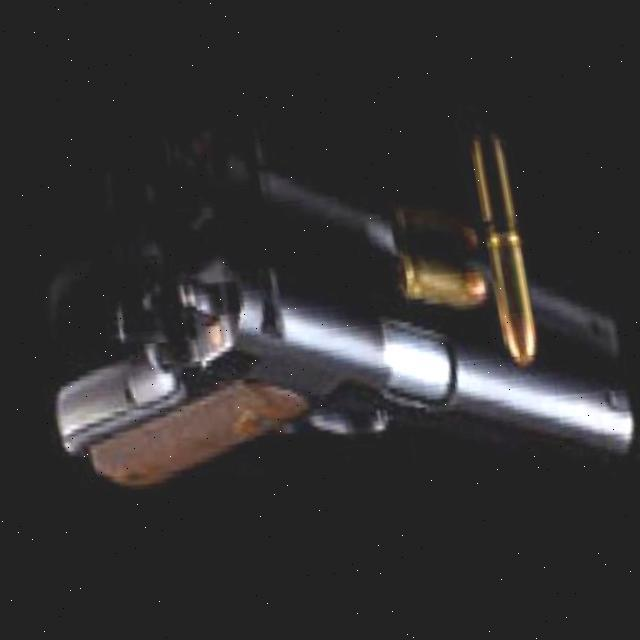gun: (18, 206, 640, 514)
